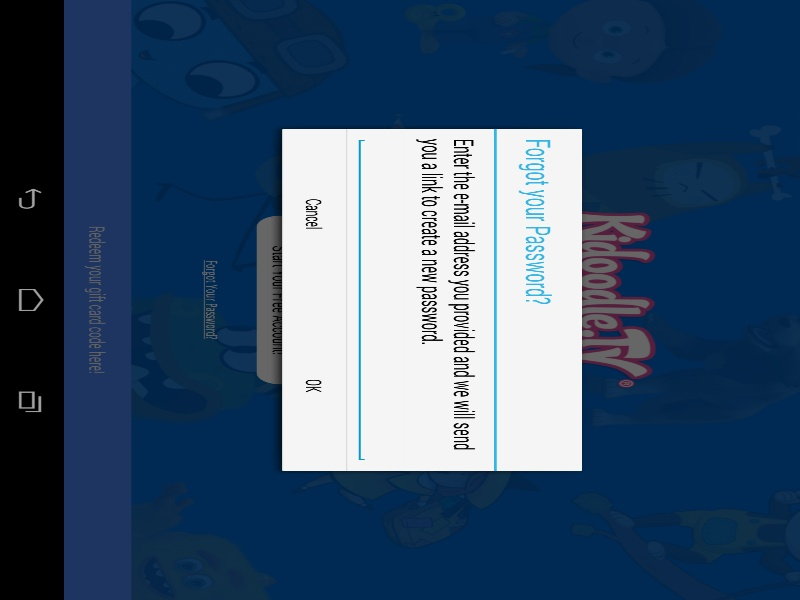Button: (274, 212, 639, 242)
